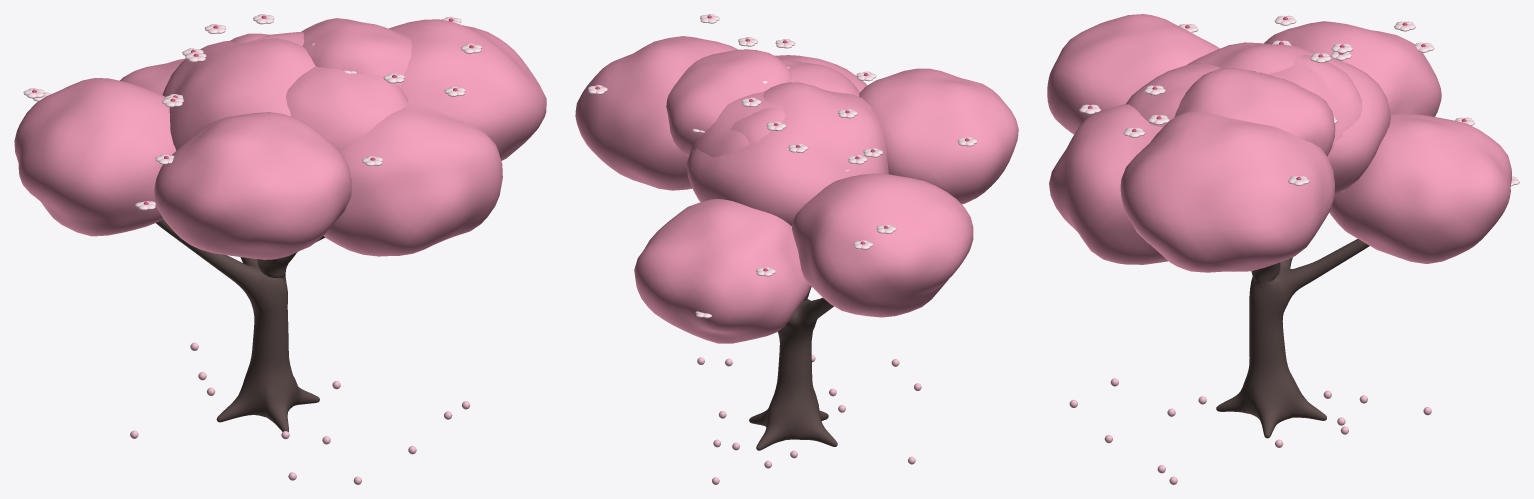
File: cherry.glb
3 views of the same model, side by side, from view 1: azimuth 30°, elevation 25°; view 2: azimuth 150°, elevation 25°; view 3: azimuth 270°, elevation 25° (orthographic). The views are drawn at different scales.
Visible parts, largest first — view 1: leaf_4, leaf_3, leaf_5, leaf_1, leaf_0, trunk, leaf_7, leaf_6, blossom, leaf_2, fallen; view 2: leaf_3, leaf_2, leaf_0, leaf_4, leaf_1, leaf_6, trunk, blossom, leaf_9, leaf_7, leaf_8, fallen (+1 smaller); view 3: leaf_1, leaf_2, leaf_4, leaf_5, trunk, leaf_6, leaf_3, leaf_0, leaf_9, leaf_7, blossom, fallen (+1 smaller).
Boxes of the visible parts, left/top/right/bottom form: leaf_4: left=154, top=112, right=351, bottom=259; leaf_3: left=14, top=78, right=176, bottom=236; leaf_5: left=323, top=99, right=502, bottom=256; leaf_1: left=388, top=19, right=546, bottom=160; leaf_0: left=162, top=38, right=315, bottom=150; trunk: left=156, top=219, right=324, bottom=431; leaf_7: left=286, top=66, right=408, bottom=150; leaf_6: left=301, top=18, right=411, bottom=88; blossom: left=23, top=14, right=481, bottom=210; leaf_2: left=120, top=58, right=185, bottom=94; fallen: left=130, top=342, right=470, bottom=484; leaf_3: left=792, top=173, right=973, bottom=317; leaf_2: left=634, top=199, right=810, bottom=343; leaf_0: left=687, top=82, right=888, bottom=225; leaf_4: left=859, top=68, right=1018, bottom=204; leaf_1: left=575, top=36, right=737, bottom=190; leaf_6: left=666, top=49, right=791, bottom=156; trunk: left=749, top=286, right=837, bottom=450; blossom: left=588, top=14, right=977, bottom=318; leaf_9: left=690, top=91, right=783, bottom=157; leaf_7: left=780, top=59, right=859, bottom=96; leaf_8: left=730, top=107, right=785, bottom=144; fallen: left=697, top=354, right=921, bottom=484; leaf_1: left=1120, top=111, right=1334, bottom=272; leaf_2: left=1329, top=113, right=1511, bottom=263; leaf_4: left=1047, top=14, right=1219, bottom=134; leaf_5: left=1049, top=104, right=1168, bottom=264; trunk: left=1216, top=239, right=1369, bottom=438; leaf_6: left=1174, top=68, right=1335, bottom=156; leaf_3: left=1264, top=21, right=1441, bottom=116; leaf_0: left=1187, top=42, right=1390, bottom=194; leaf_9: left=1268, top=55, right=1361, bottom=153; leaf_7: left=1126, top=63, right=1220, bottom=126; blossom: left=1079, top=15, right=1519, bottom=192; fallen: left=1069, top=378, right=1431, bottom=484.
Bounding box in the file's own units: 4.31 × 3.43 × 3.94.
